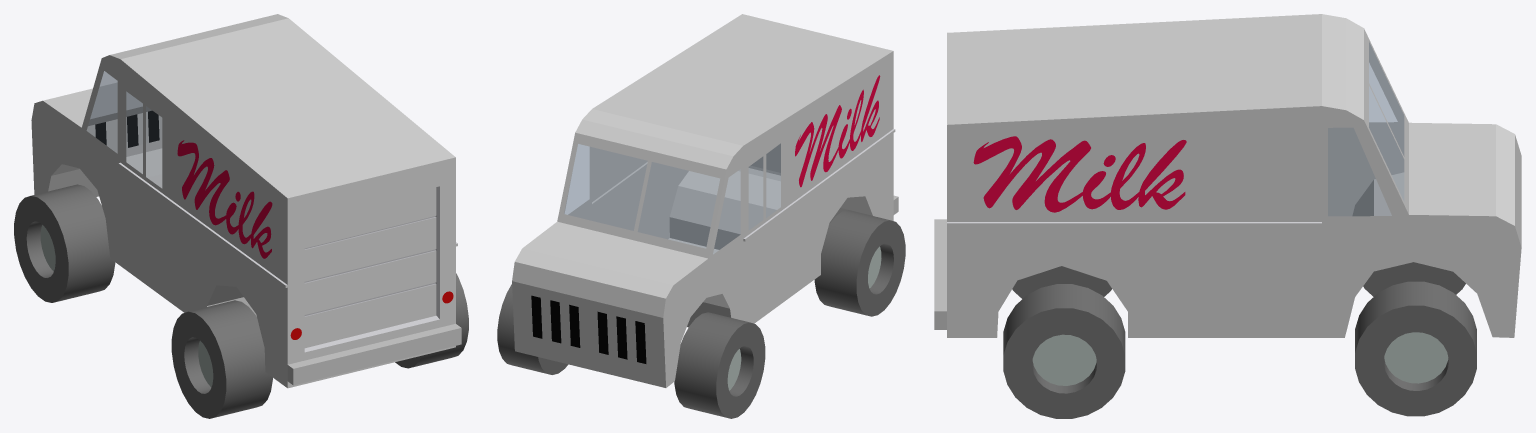
Rendered from milktruck.glb.
3 views of the same model, side by side, from view 1: azimuth 30°, elevation 25°; view 2: azimuth 150°, elevation 25°; view 3: azimuth 270°, elevation 25° (orthographic). The views are drawn at different scales.
Parts seen in each view (by area): view 1: object 3, Milk; view 2: object 3, Milk; view 3: object 3, Milk.
Boxes of the visible parts, left/top/right/bottom form: object 3: left=14, top=14, right=468, bottom=418; Milk: left=177, top=140, right=272, bottom=258; object 3: left=497, top=14, right=905, bottom=418; Milk: left=795, top=75, right=880, bottom=187; object 3: left=934, top=14, right=1521, bottom=418; Milk: left=973, top=136, right=1186, bottom=212.
Size of the model in its own units: 3.5 by 3.57 by 6.49.
